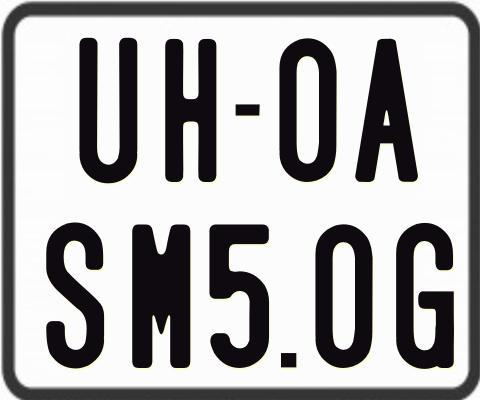0: (315, 222, 378, 371), (277, 35, 336, 182)
5: (206, 224, 269, 372)
A: (352, 39, 415, 184)
G: (395, 223, 456, 373)
H: (165, 39, 216, 188)
M: (131, 222, 195, 367)
S: (44, 223, 103, 370)
U: (77, 37, 136, 187)
